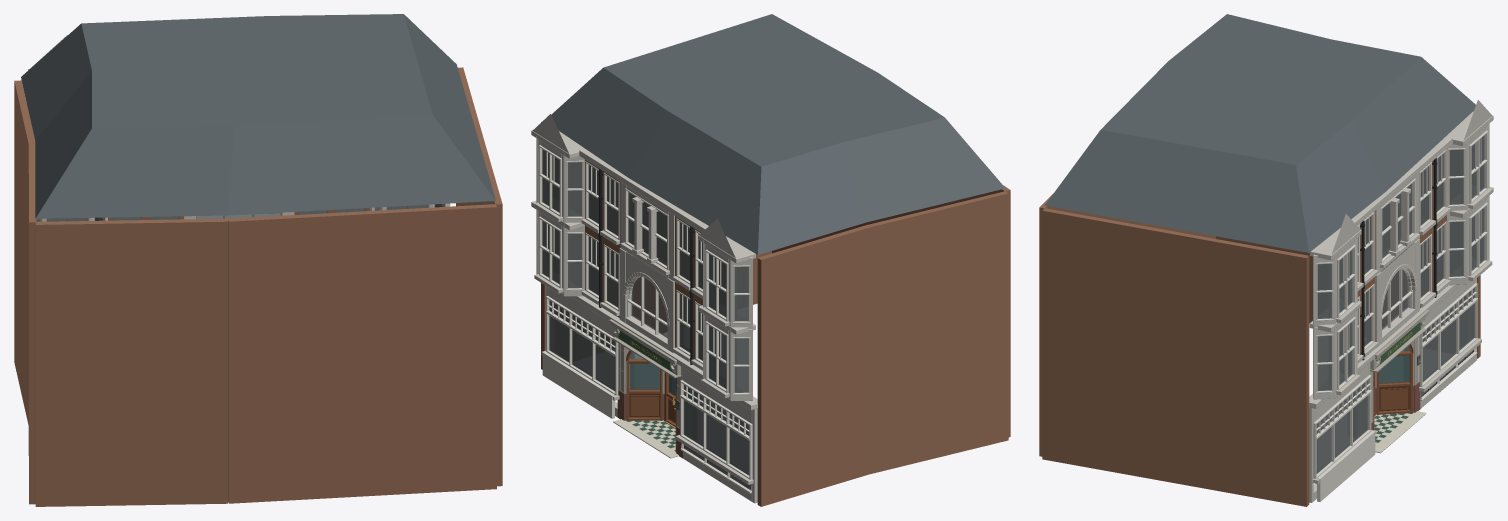
File: lch-exterior-66dd0ee2be5d.glb
The picture shows the model from 3 angles, left to right: view 1: azimuth 30°, elevation 25°; view 2: azimuth 150°, elevation 25°; view 3: azimuth 270°, elevation 25°; orthographic projection. The views are drawn at different scales.
Parts seen in each view (by area): view 1: LCH.001; view 2: LCH.001; view 3: LCH.001.
Part boxes in pixels (<box>): LCH.001: <box>14,14,502,506</box>; LCH.001: <box>531,14,1010,506</box>; LCH.001: <box>1039,14,1493,506</box>.
Bounding box in the file's own units: 19.23 × 13.5 × 17.71.
